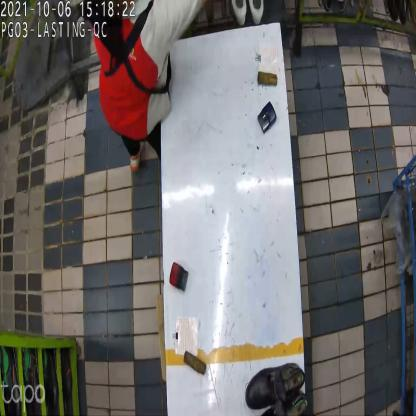shoes: (242, 360, 309, 415)
stamp: (170, 261, 191, 294), (258, 101, 276, 135)
